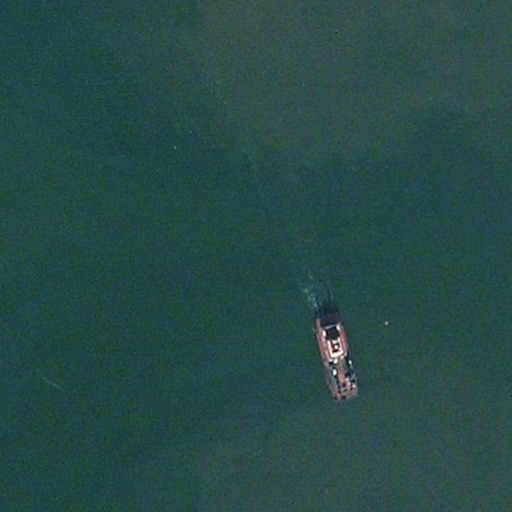ship: (309, 297, 366, 403)
